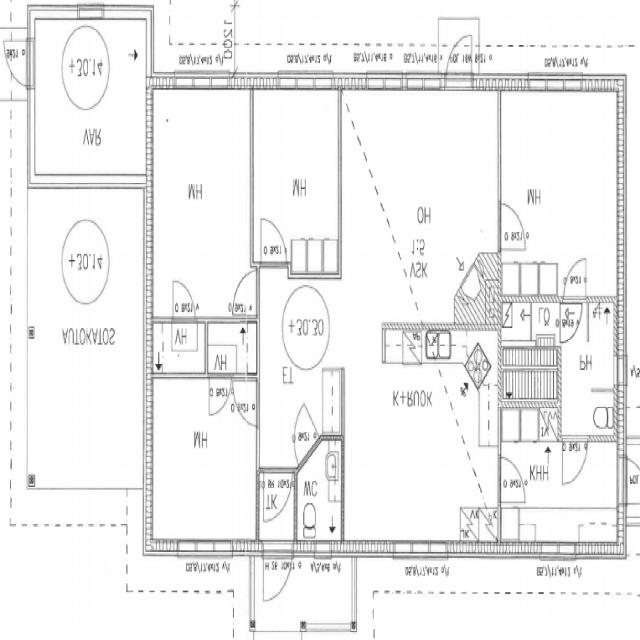door: (284, 402, 321, 469), (262, 540, 293, 610), (446, 29, 472, 91), (264, 468, 292, 524), (2, 40, 35, 86), (498, 204, 528, 250), (562, 434, 588, 486), (231, 270, 260, 316), (231, 381, 260, 426), (498, 458, 527, 502), (262, 216, 286, 268), (563, 255, 587, 302), (617, 458, 640, 503), (209, 373, 232, 418), (173, 278, 195, 322), (558, 304, 583, 342)
